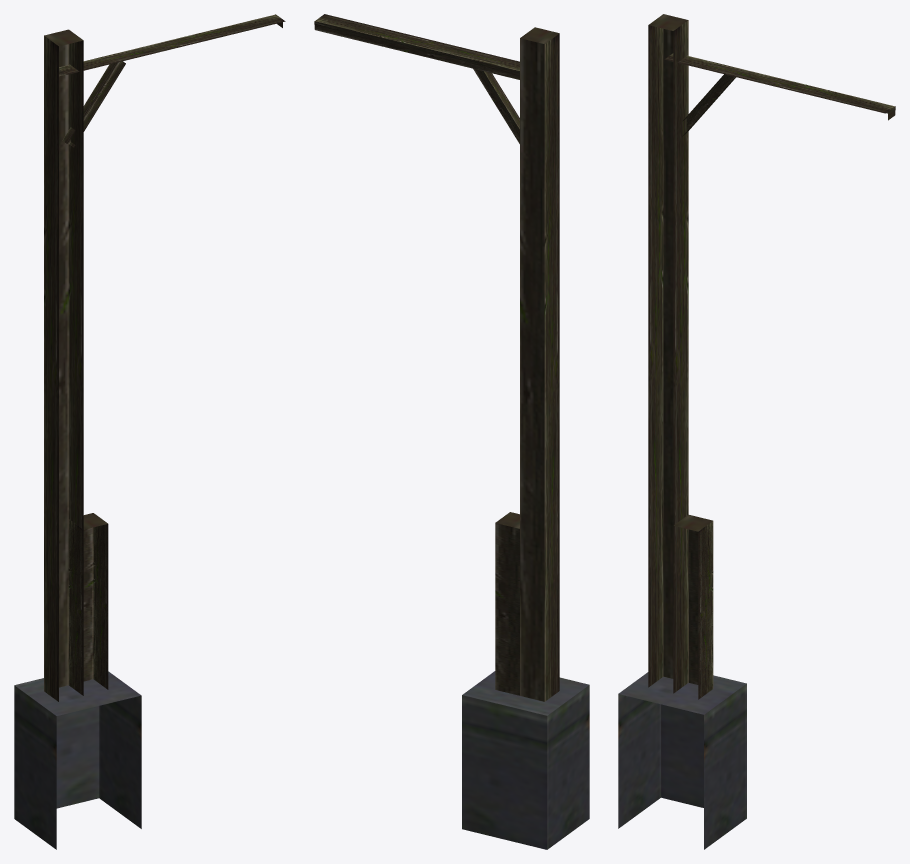
Rendered from fb_juxianzhuang_qizi.FBX.
3 views of the same model, side by side, from view 1: azimuth 30°, elevation 25°; view 2: azimuth 150°, elevation 25°; view 3: azimuth 330°, elevation 25° (orthographic).
Visible parts, largest first — view 1: fb_juxianzhuang_qizi; view 2: fb_juxianzhuang_qizi; view 3: fb_juxianzhuang_qizi.
Part boxes in pixels (x1,y1,x2,y2): fb_juxianzhuang_qizi: (14, 14, 285, 849); fb_juxianzhuang_qizi: (314, 14, 589, 849); fb_juxianzhuang_qizi: (618, 14, 895, 849).
Bounding box in the file's own units: 201 × 614 × 59.75.
Materials: 1 (1 with a texture image).
